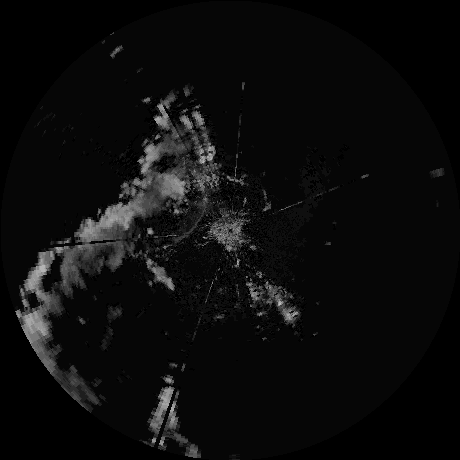frontgust: (175, 201, 207, 242)
